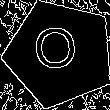O_S: (35, 27, 84, 81)
